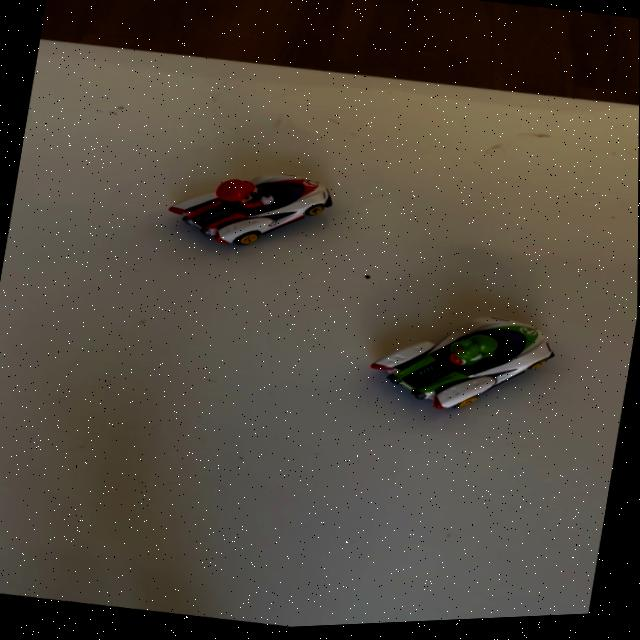mario: (146, 150, 348, 276)
yoshi: (348, 298, 578, 449)
